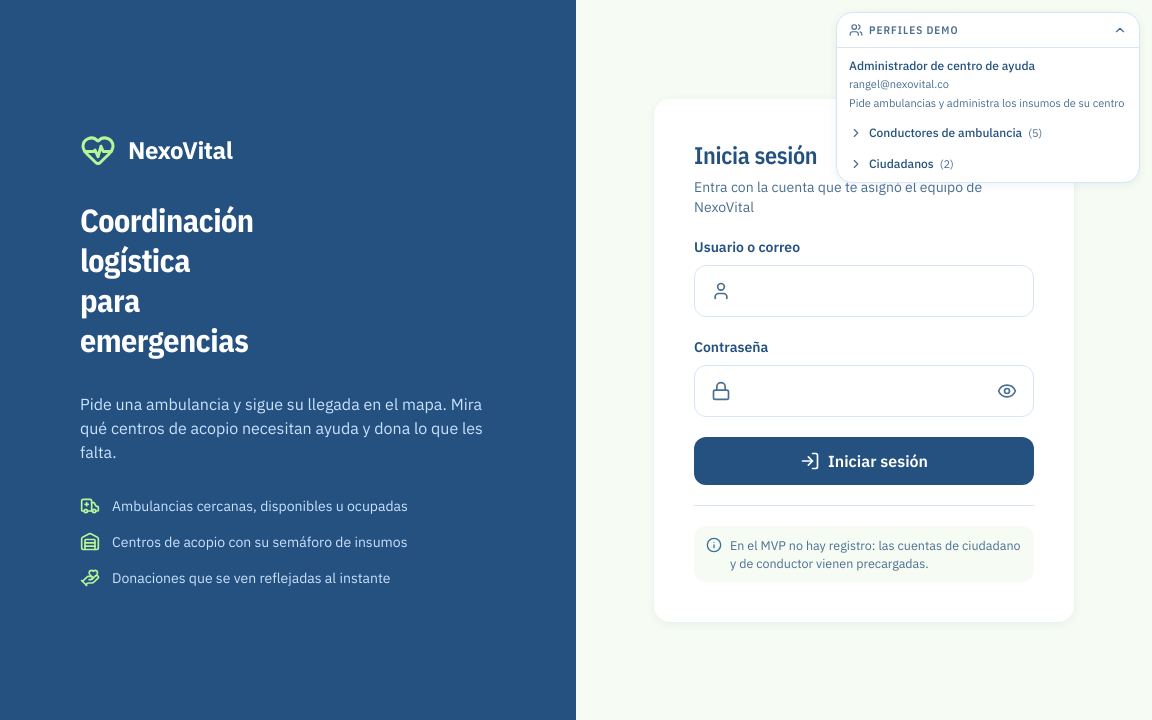
Test: LoginPage › keeps the labels and the error region when an autofilled login is rejected
Click the button "Ciudadanos (2)" at coordinates (901, 163), box 841,150 -> 1135,178
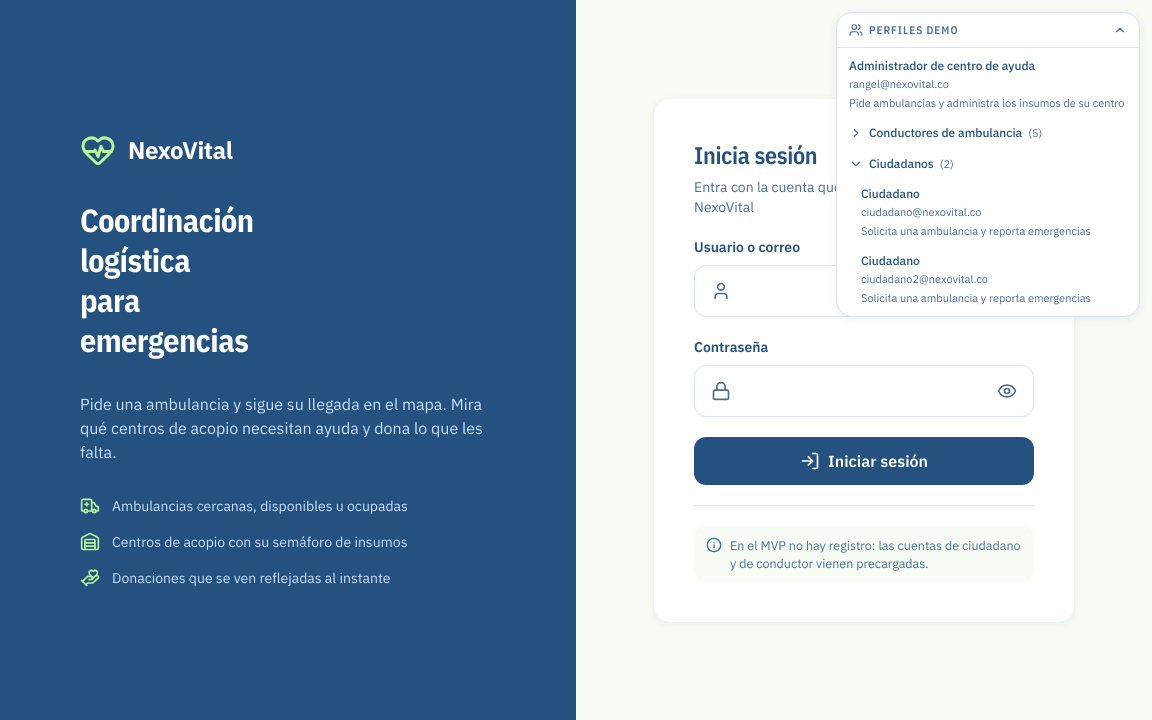
Click the button with aria-label "Ciudadano. ciudadano@nexovital.co. Solicita una ambulancia y" at coordinates (890, 194), box 853,180 -> 1135,245
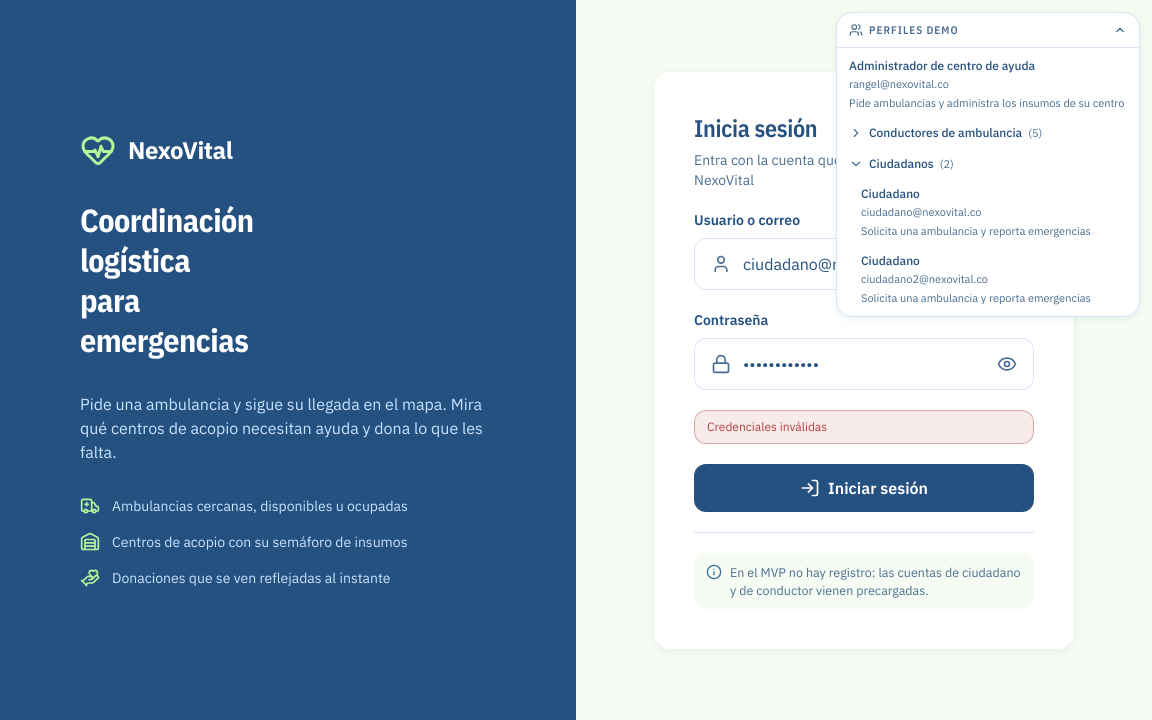
Expected: the message reads "Credenciales inválidas", 707,418 -> 827,434
Expected: the field labelled "Usuario o correo" holds "ciudadano@nexovital.co", 743,238 -> 1017,288
Expected: the password field labelled "Contraseña" holds "ciudadano123", 743,338 -> 985,388
